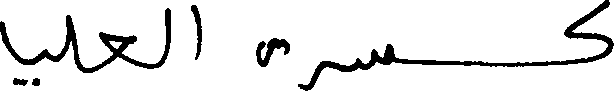ا: (0, 19, 25, 67), (191, 2, 201, 60)
ر: (296, 58, 323, 88)
س: (355, 42, 394, 70)
ع: (97, 30, 133, 70), (65, 12, 78, 70)
ك: (566, 0, 612, 66)
ل: (159, 5, 171, 67)
ى: (255, 36, 289, 67)
ي: (11, 45, 58, 85)
